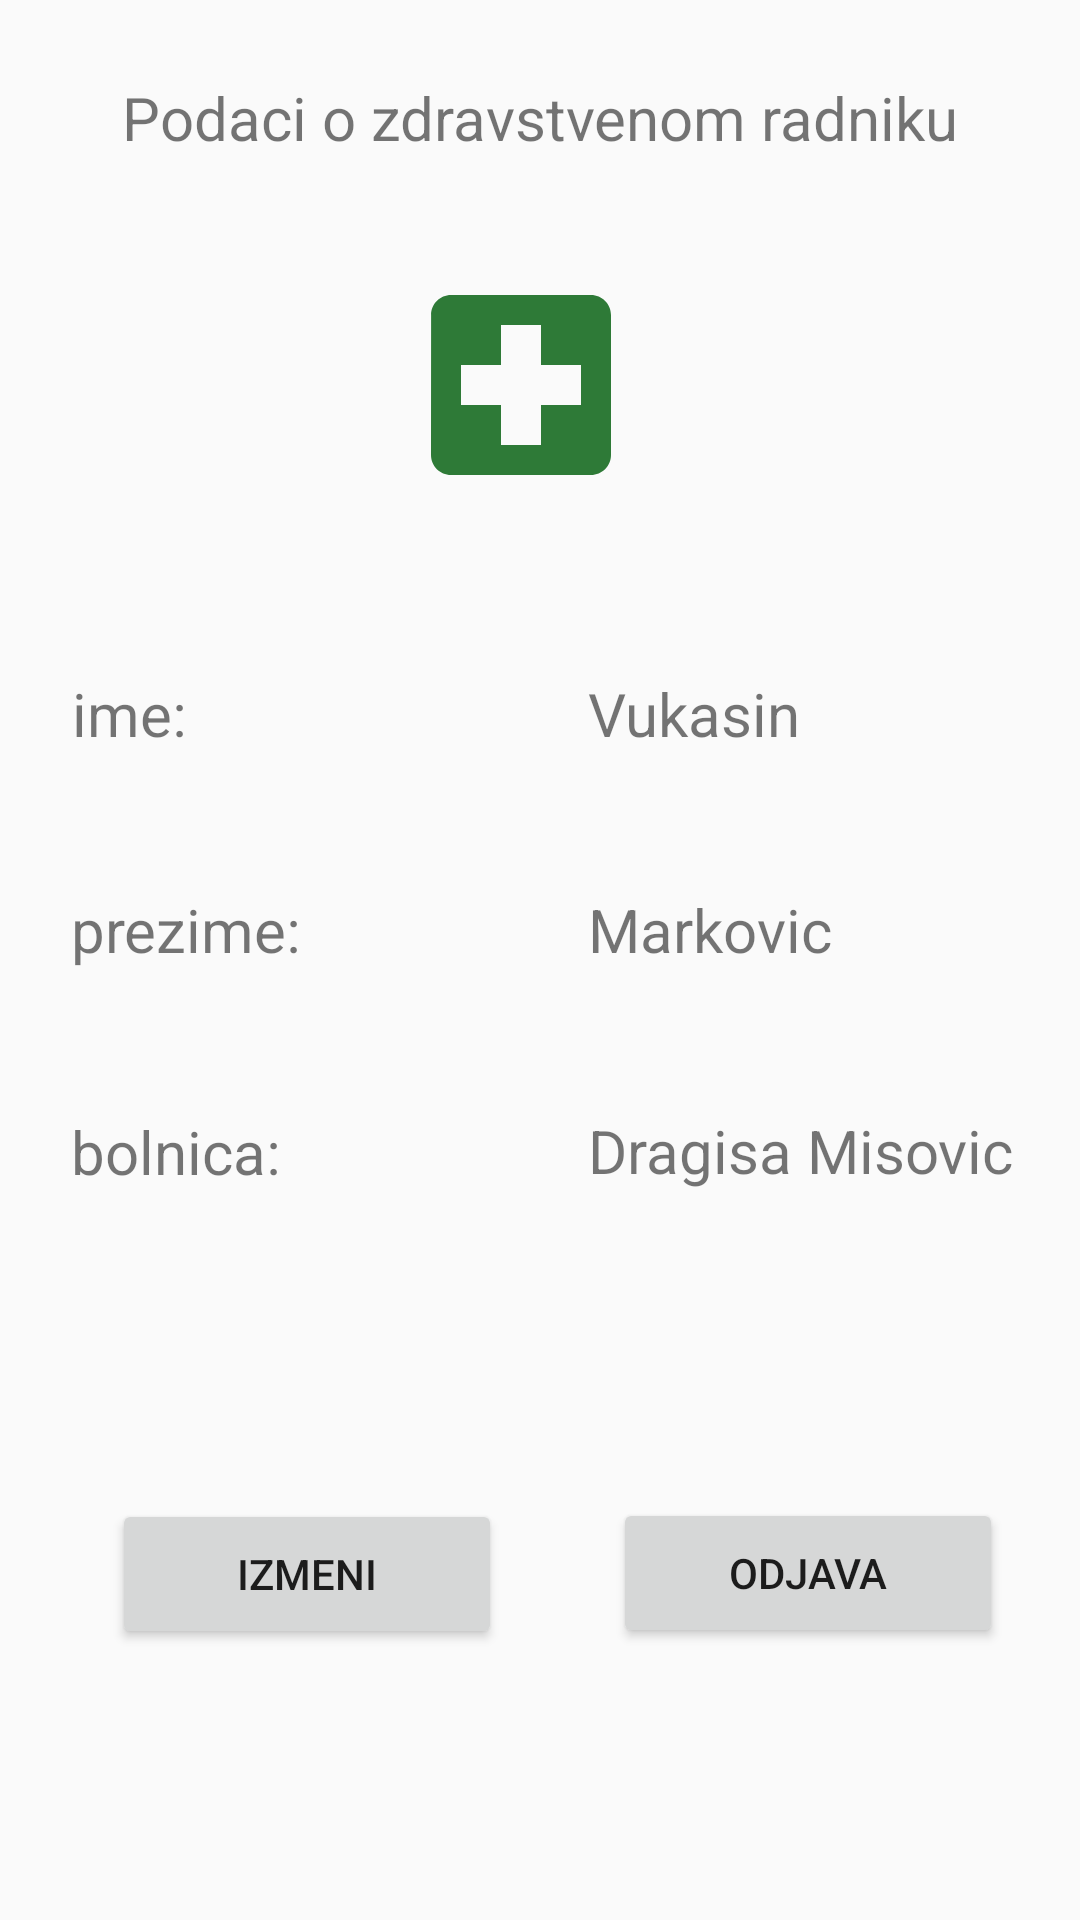

Screen size 1080×1920. Icon name, then its box in pixels as (x1, y1, x2, y2):
local hospital: (431, 295, 611, 475)
